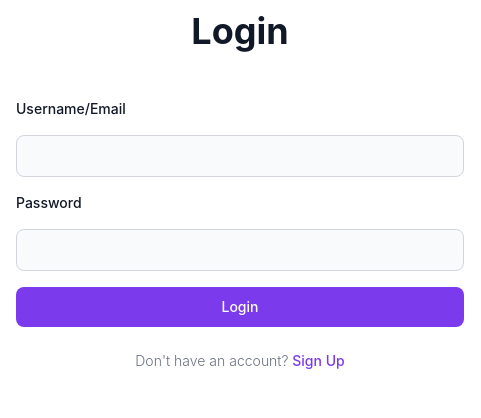
Test: LoginForm component › shows fallback error when server sends no message
This screenshot has width=481, height=418.
Click the button "Login" at (240, 307), box [16, 287, 464, 327]
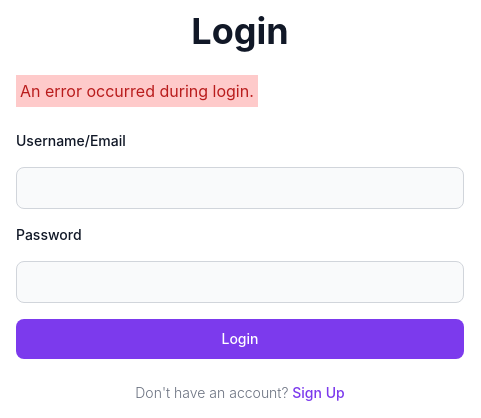
Expected: the text "An error occurred during login." is shown, [16, 75, 258, 107]
